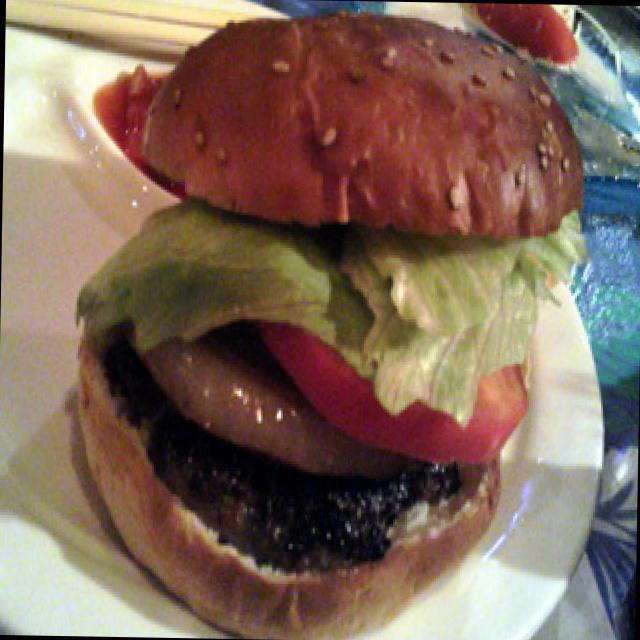Hamburger: (60, 10, 595, 640)
